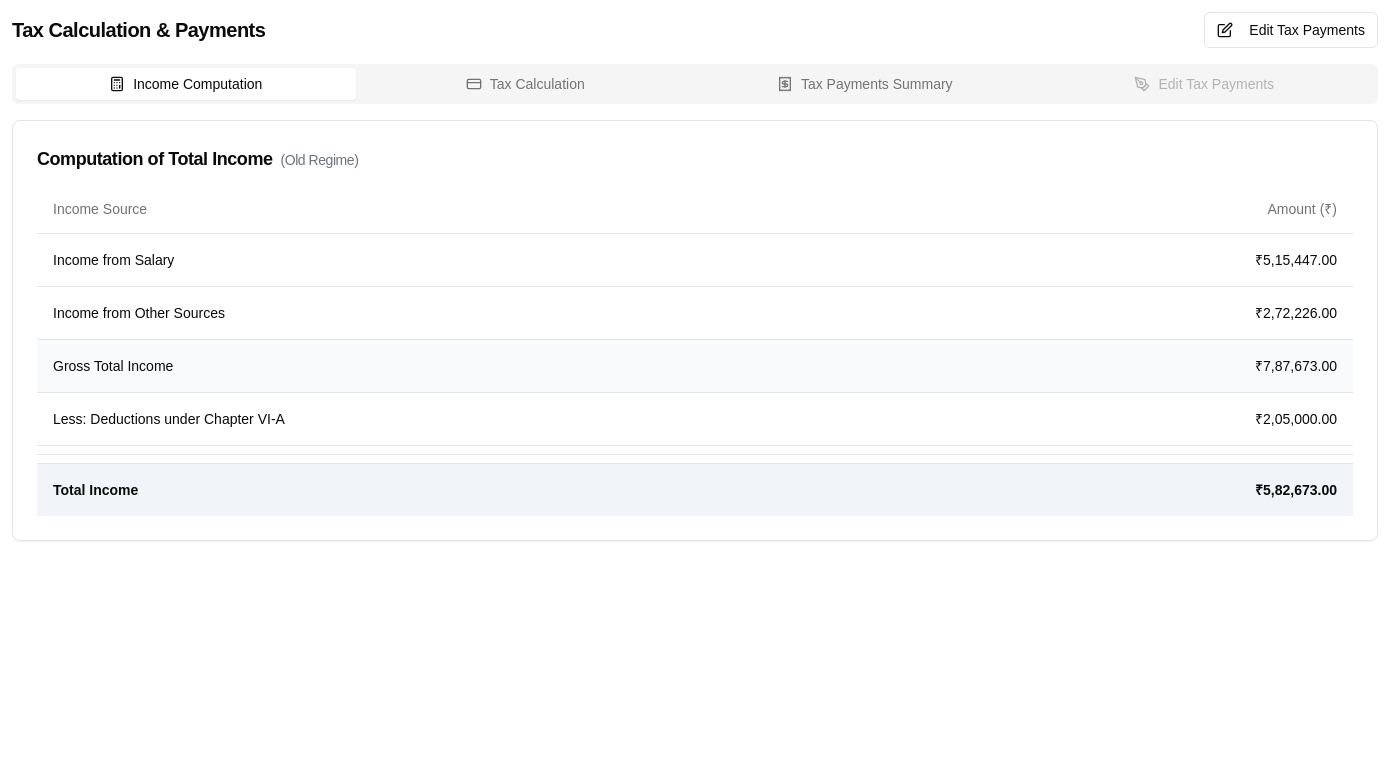
Test: TaxCalculationPaymentsStep › renders Tax Calculation tab correctly after clicking
// Click the "Tax Calculation" tab
Click the tab "Tax Calculation": (525, 84) 356,68 -> 695,100
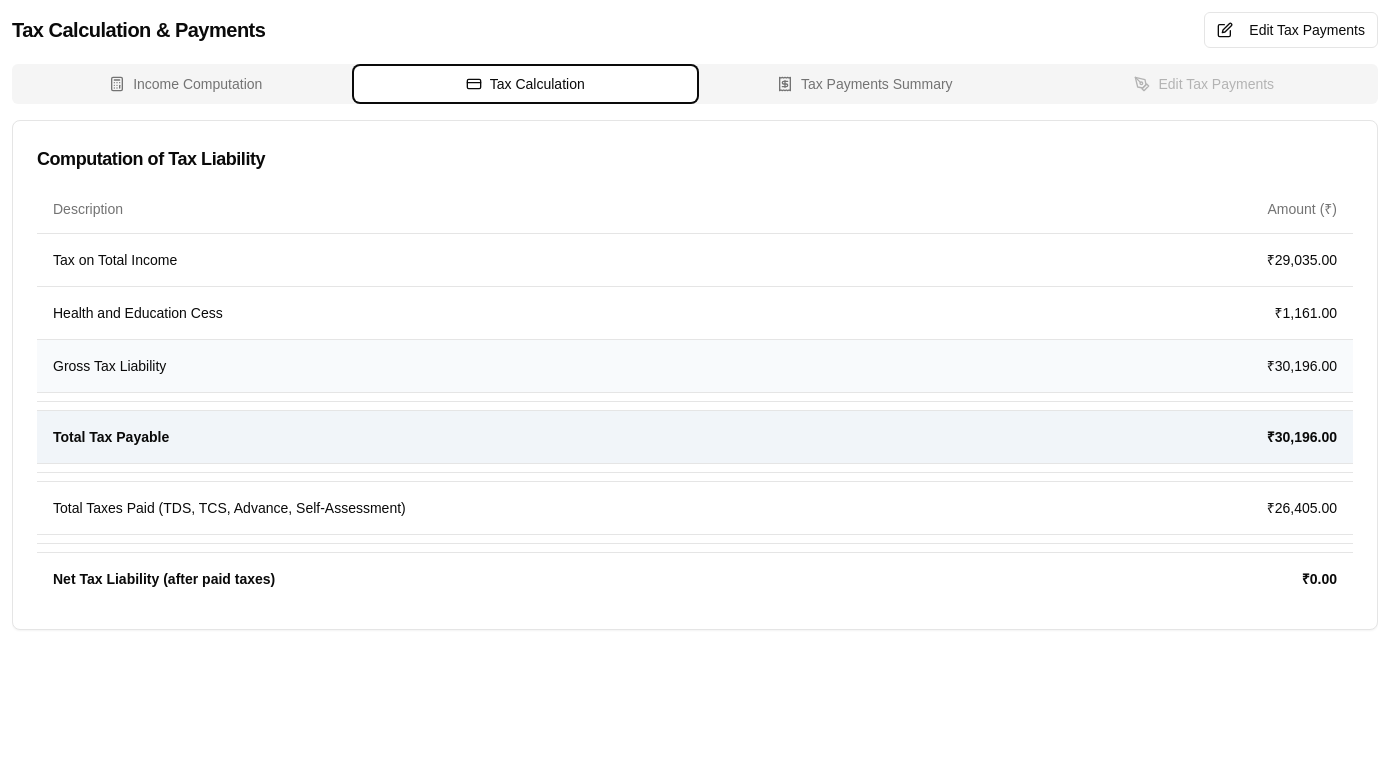
Check: the text "₹30,196.00" in the row of "Gross Tax Liability" is shown, box 1267,358 -> 1337,374
Check: the text "₹0.00" is shown, box 1077,552 -> 1353,604
